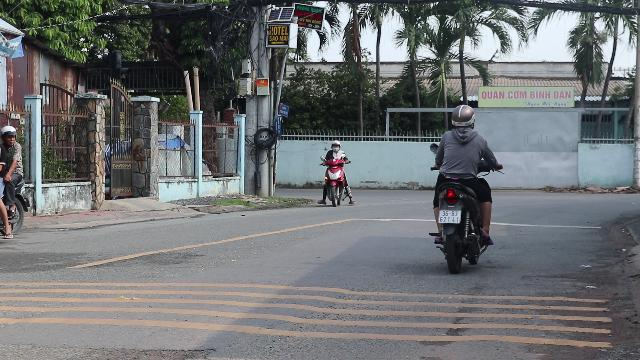helmet: (450, 105, 476, 130)
licenseplate: (439, 209, 461, 223)
motorcyclist: (425, 104, 499, 270)
